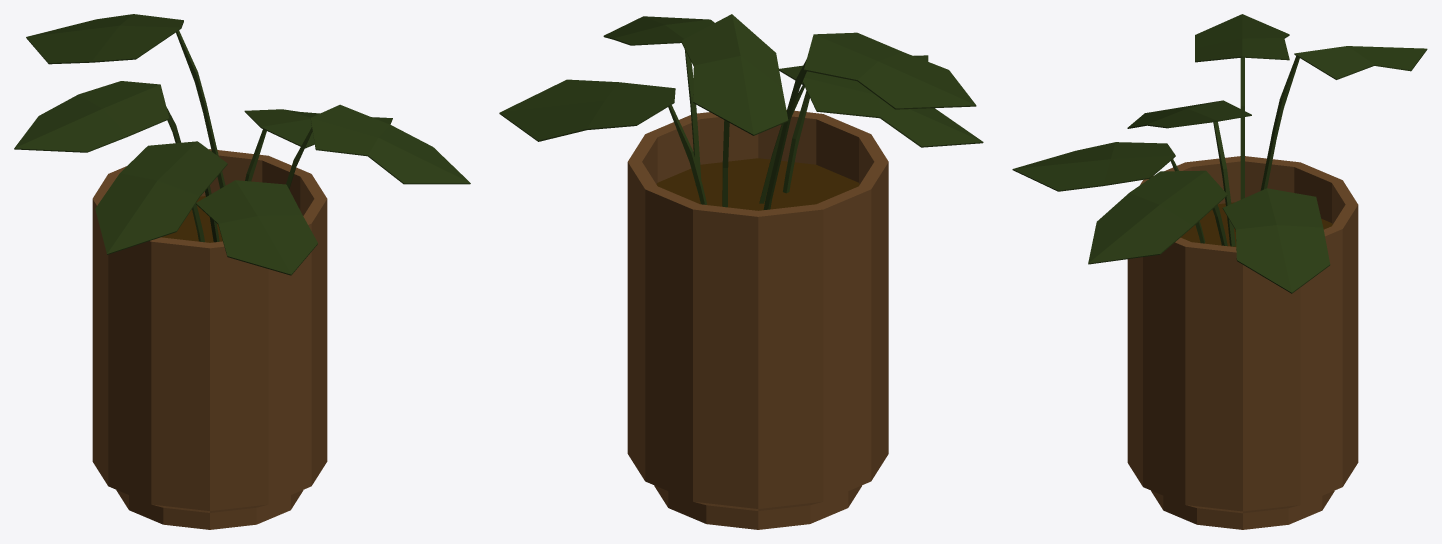
Rendered from Plant.fbx.
3 renders of one model, left to right at view 1: azimuth 30°, elevation 25°; view 2: azimuth 150°, elevation 25°; view 3: azimuth 270°, elevation 25°, orthographic. The views are drawn at different scales.
Visible parts, largest first — view 1: Cylinder, Cube.004, Cube, Cube.001, Cube.005, Cube.003, Cube.002; view 2: Cylinder, Cube.003, Cube, Cube.002, Cube.004, Cube.005, Cube.001; view 3: Cylinder, Cube.005, Cube.002, Cube.001, Cube, Cube.003, Cube.004.
Boxes of the visible parts, x1=… form: Cylinder: x1=92, y1=149, x2=327, y2=529; Cube.004: x1=95, y1=141, x2=227, y2=254; Cube: x1=14, y1=81, x2=204, y2=242; Cube.001: x1=196, y1=180, x2=317, y2=275; Cube.005: x1=286, y1=104, x2=470, y2=188; Cube.003: x1=26, y1=14, x2=225, y2=188; Cube.002: x1=244, y1=109, x2=392, y2=181; Cylinder: x1=627, y1=110, x2=888, y2=529; Cube.003: x1=681, y1=14, x2=788, y2=207; Cube: x1=763, y1=32, x2=976, y2=209; Cube.002: x1=499, y1=79, x2=706, y2=204; Cube.004: x1=759, y1=71, x2=983, y2=203; Cube.005: x1=603, y1=16, x2=714, y2=179; Cube.001: x1=779, y1=55, x2=928, y2=193; Cylinder: x1=1127, y1=156, x2=1358, y2=529; Cube.005: x1=1088, y1=170, x2=1227, y2=264; Cube.002: x1=1222, y1=188, x2=1330, y2=293; Cube.001: x1=1012, y1=142, x2=1205, y2=243; Cube: x1=1195, y1=14, x2=1289, y2=199; Cube.003: x1=1260, y1=46, x2=1427, y2=190; Cube.004: x1=1127, y1=100, x2=1251, y2=246.
Bounding box in the file's own units: 499 × 525 × 452.
